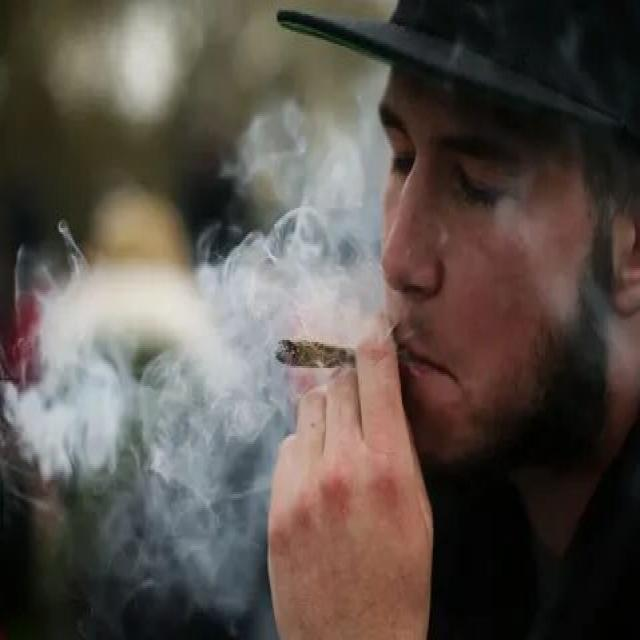smoke: (272, 334, 364, 382)
